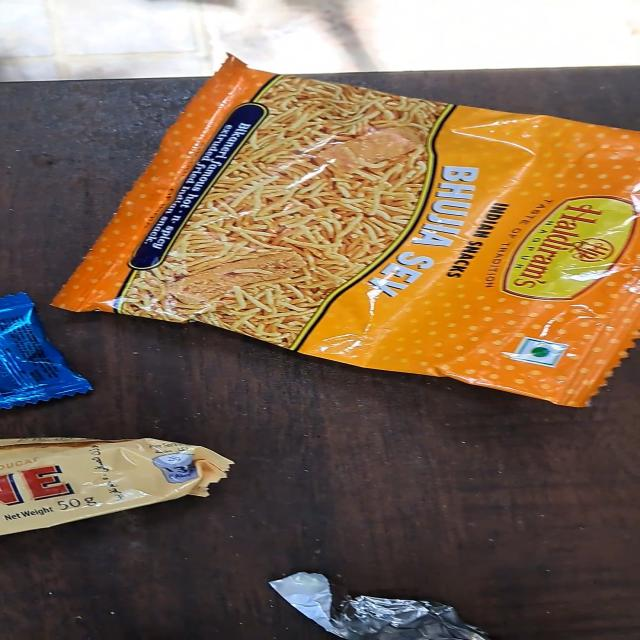Anorganik: (47, 43, 640, 407)
